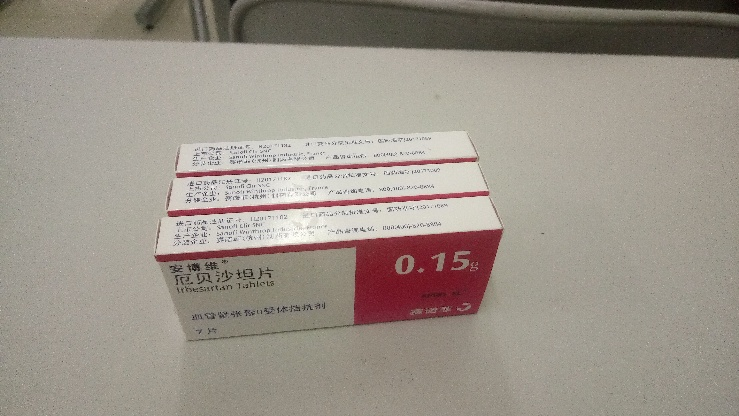pillbox: (155, 195, 500, 339), (169, 168, 491, 210), (175, 134, 483, 168)
